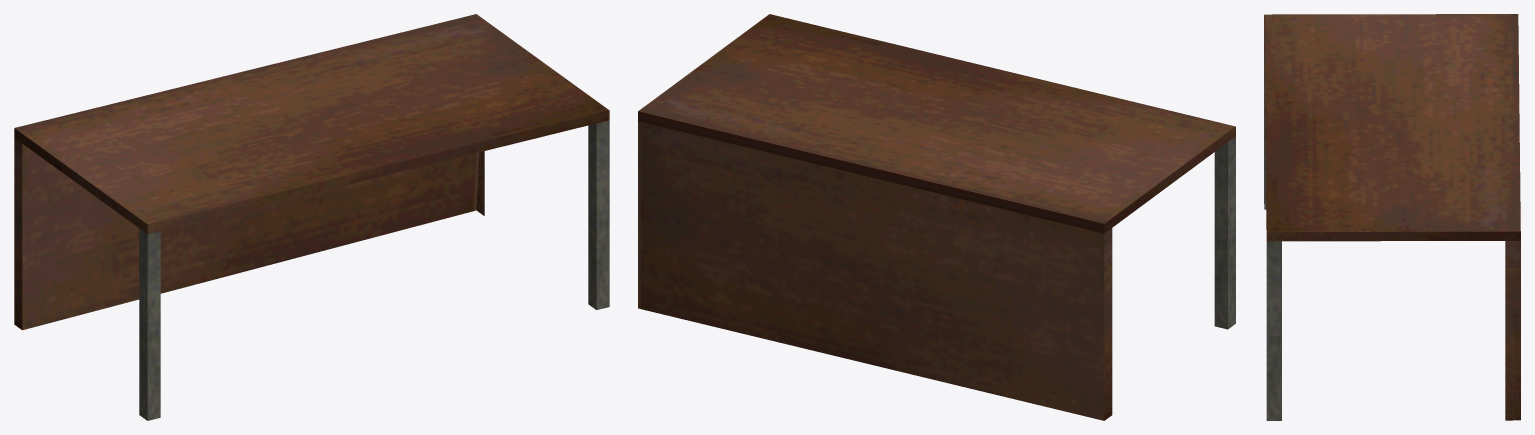
File: desk2_alt4.obj
3 views of the same model, side by side, from view 1: azimuth 30°, elevation 25°; view 2: azimuth 150°, elevation 25°; view 3: azimuth 270°, elevation 25° (orthographic). The views are drawn at different scales.
Visible parts, largest first — view 1: desk2_alt4; view 2: desk2_alt4; view 3: desk2_alt4.
Part boxes in pixels (<box>): desk2_alt4: <box>14,14,609,420</box>; desk2_alt4: <box>638,14,1235,420</box>; desk2_alt4: <box>1264,14,1520,420</box>.
Bounding box in the file's own units: 2.21 × 0.8911 × 1.1.
